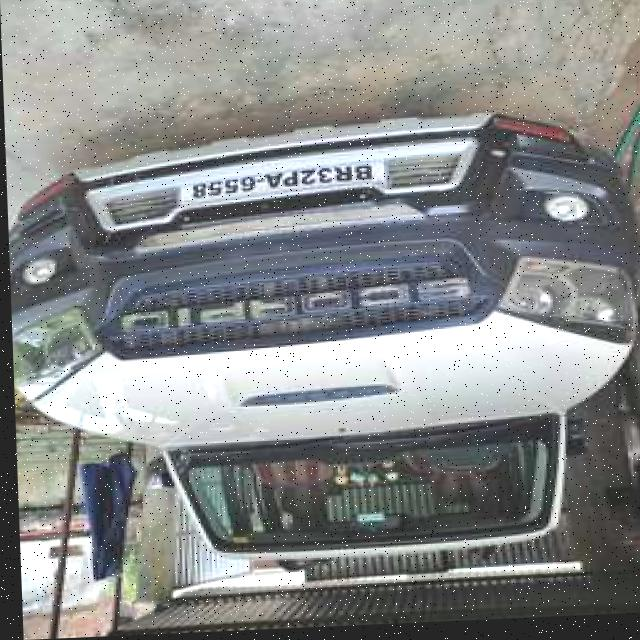plate: (181, 165, 386, 208)
